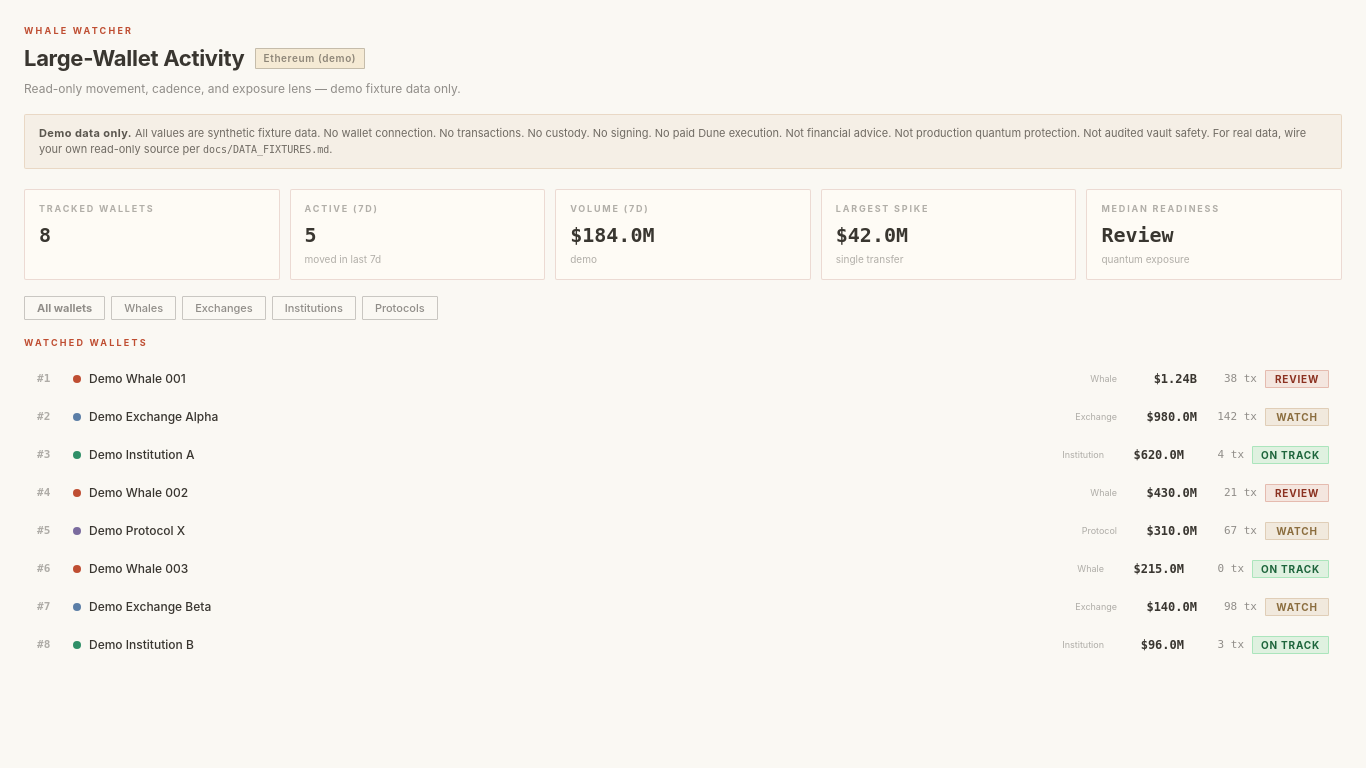
Test case: Whale Watcher › filters by wallet type
Click the button "Whales". click: (144, 308)
box: [111,296,176,320]
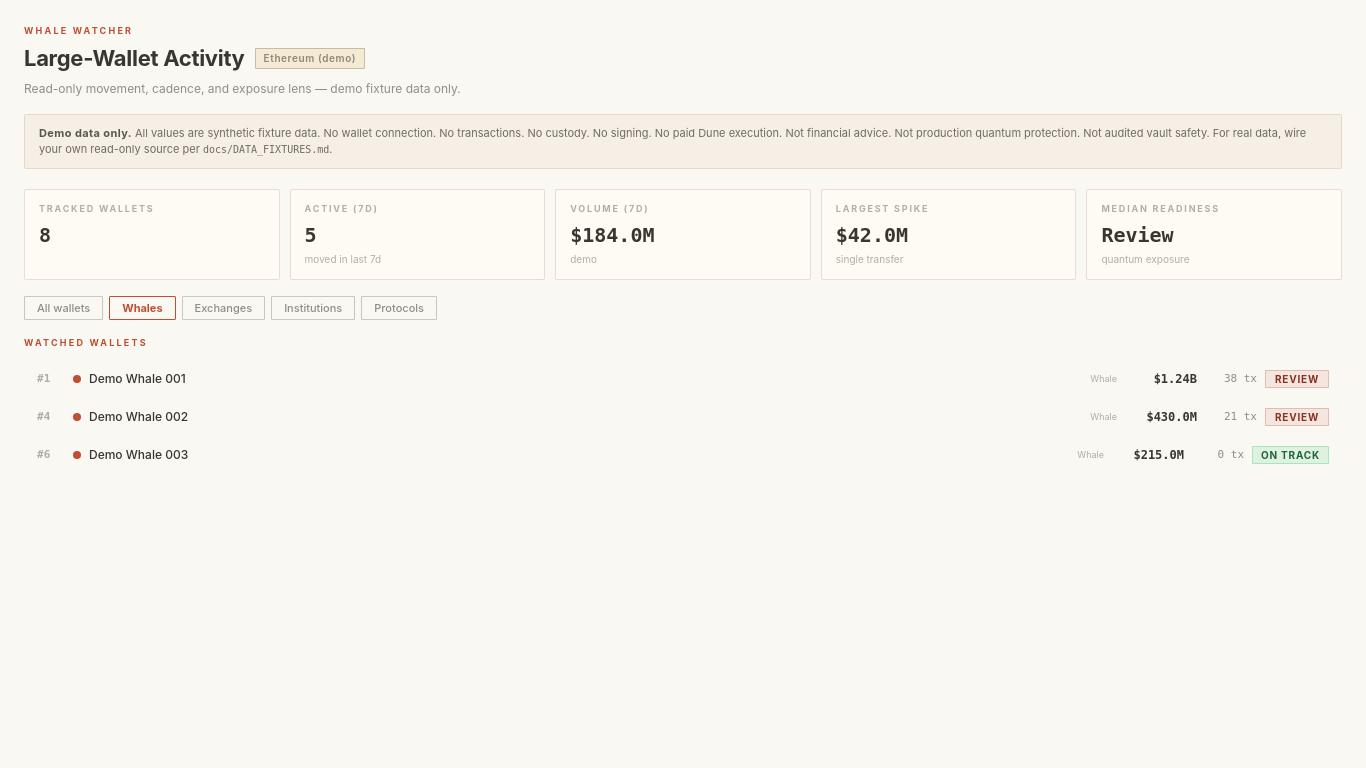
Expected: no buttons "Demo Exchange Alpha" are shown
